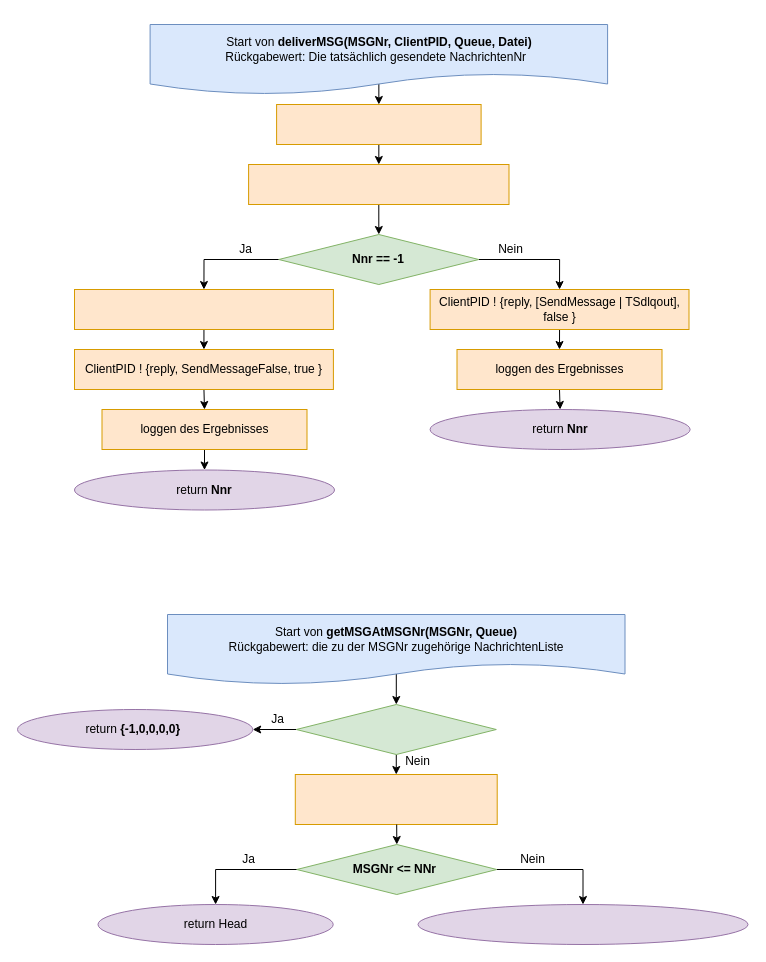
This 766x962 diagram has some shape labels left out. Each missing label, with the centre of its shape:
"isEmpty(Queue)" goes at point (395, 729).
"return getMSGAtMSGNr(MSGNr, Tail)" goes at point (582, 924).
"SendMessage = getMSGAtMSGNrHelp(MSGNr, Queue)" goes at point (378, 184).
"SendMessageFalse = [-1,nokb,0,0,0]" goes at point (203, 309).
"Teile Queue in 1. Element = Head und Rest = Tail auf" goes at point (395, 799).
"TSdlqout = erlang:timestamp()" goes at point (378, 124).
